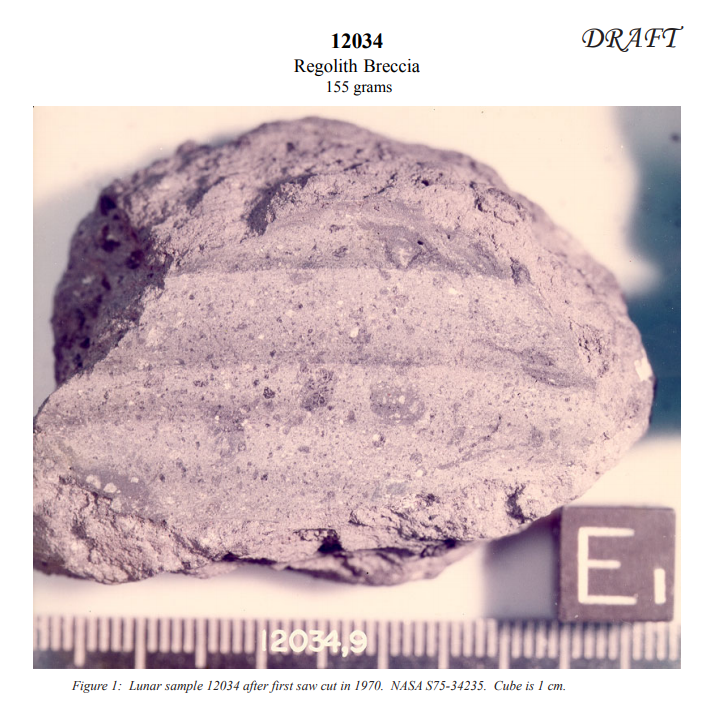Breccia: (30, 119, 563, 620)
